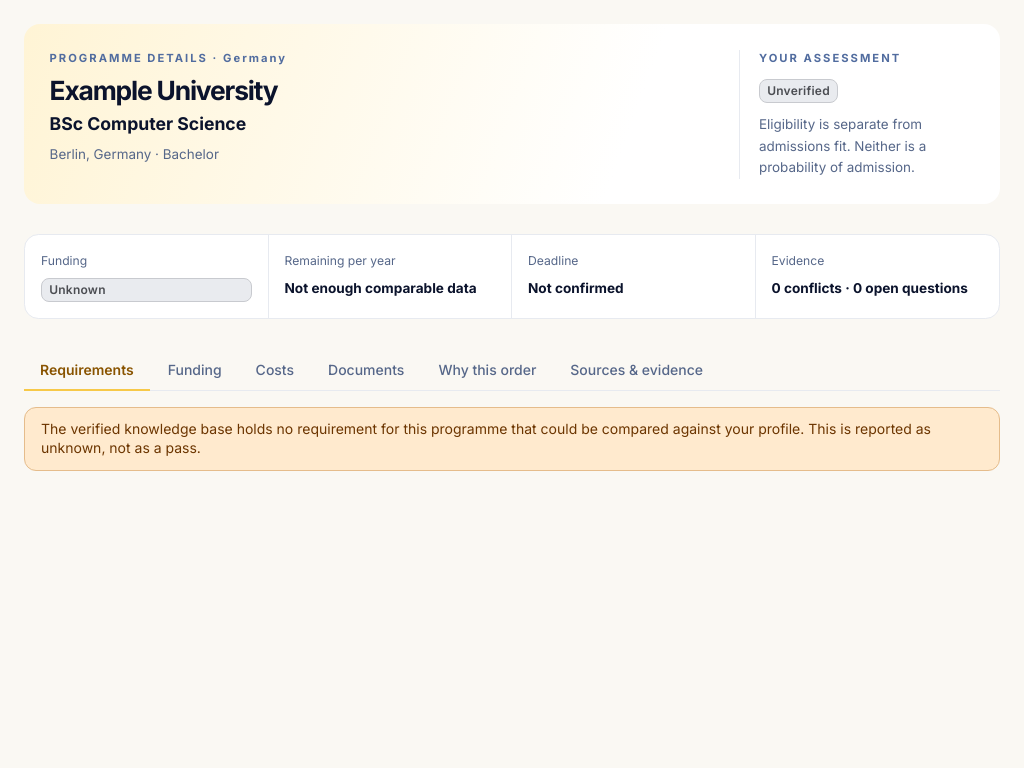
Test: the two honest fee shapes (round 11): a per-credit rate and a printed range › shows a printed range in the cost table as that range, never as one figure
Click the tab with test id "tab-costs".
click(275, 371)  # box [240, 351, 310, 391]
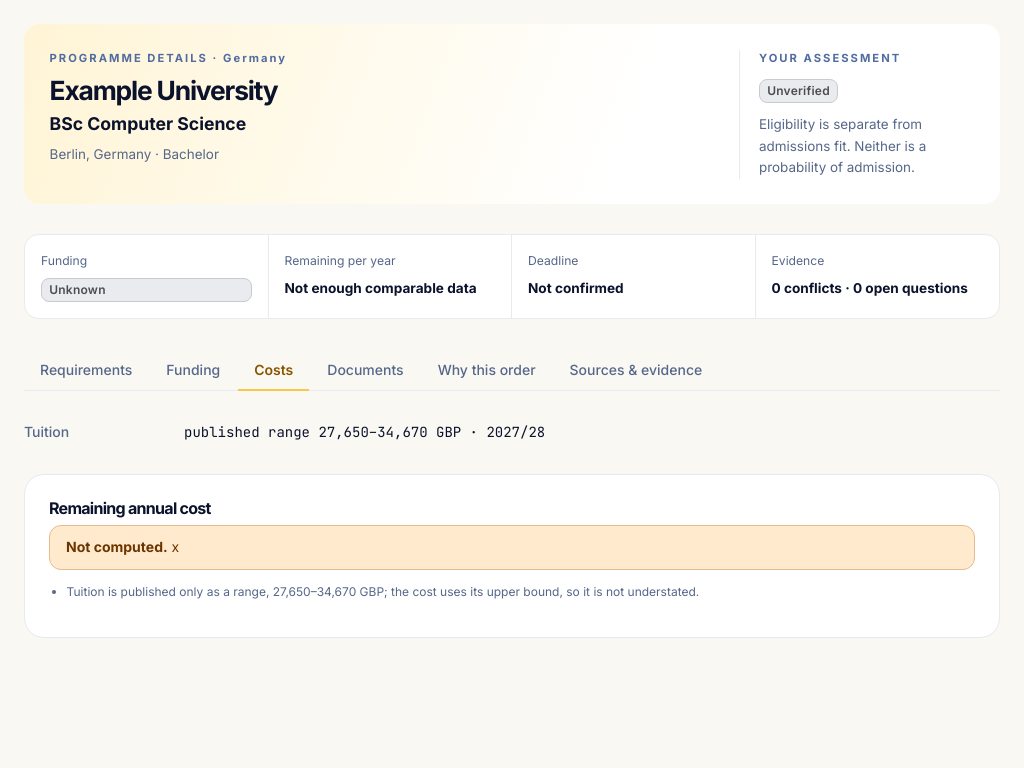
Check: the text "published range 27,650–34,670 GBP · 2027/28" is shown, box [184, 423, 545, 441]
Check: the text "Tuition is published only as a range, 27,650–34,670 GBP; the cost uses its upper bound, so it is not understated." is shown, box [67, 584, 699, 599]
